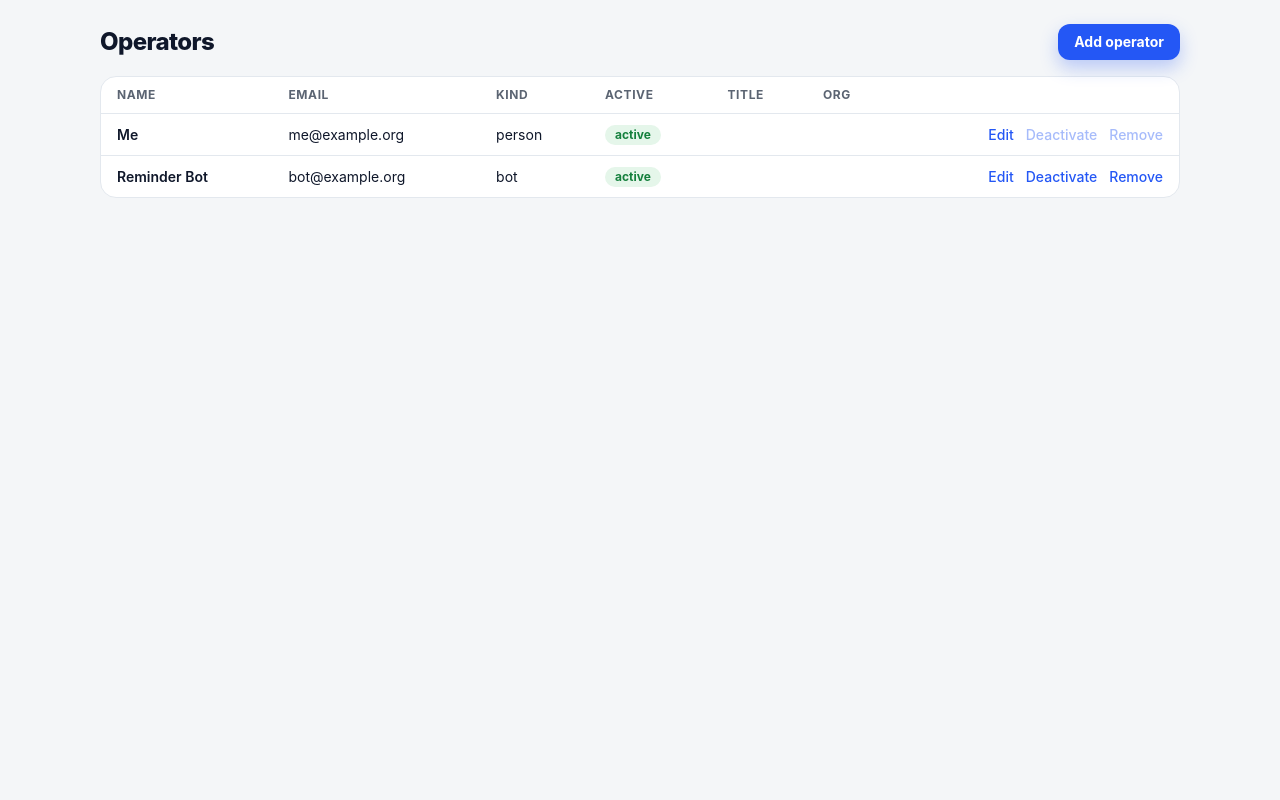
OperatorsScreen › adds an operator and shows the resulting commit subject
This screenshot has width=1280, height=800.
Expected: the text "Reminder Bot" is shown, x1=101 y1=156 x2=272 y2=197
Click the button "Add operator".
click(1119, 42)  # box x1=1058 y1=24 x2=1180 y2=60
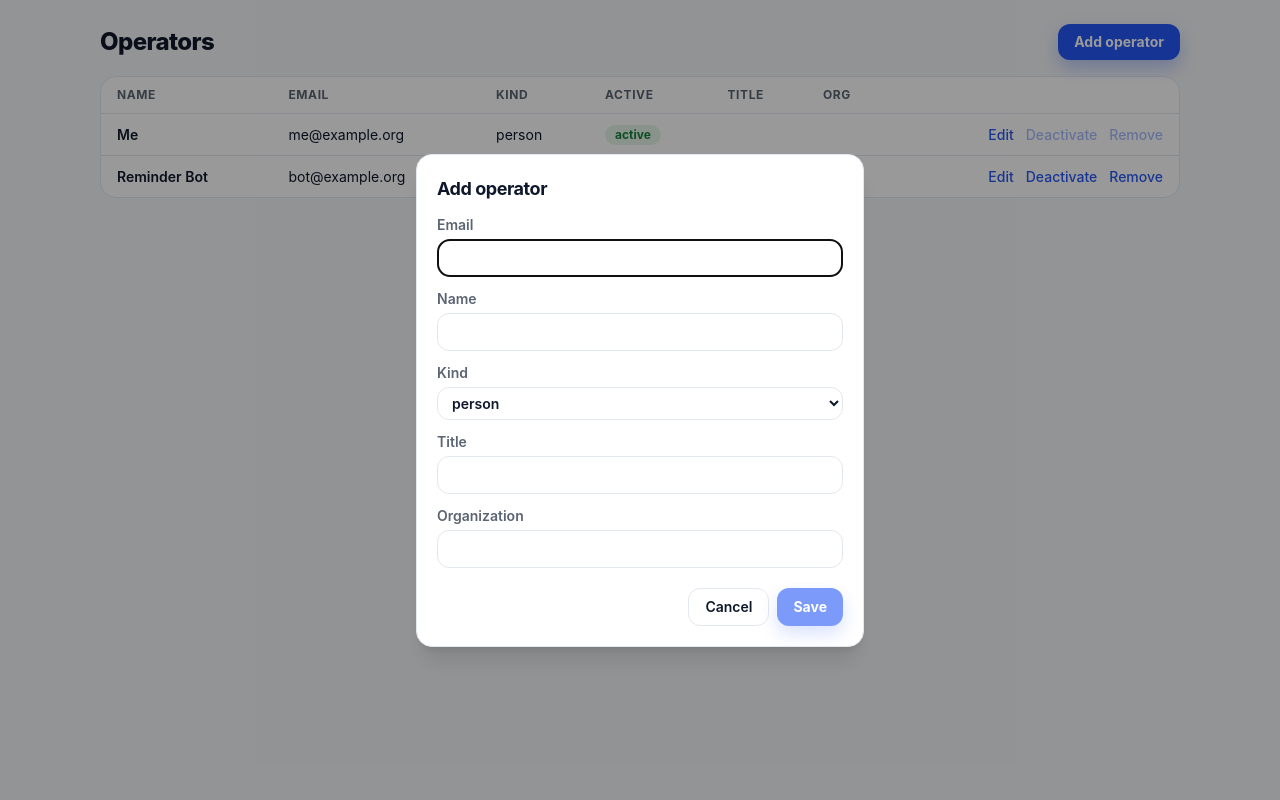
Type "new-op@example.org" into the field labelled "Email".
click(640, 258); type("new-op@example.org")  # box x1=437 y1=238 x2=843 y2=276
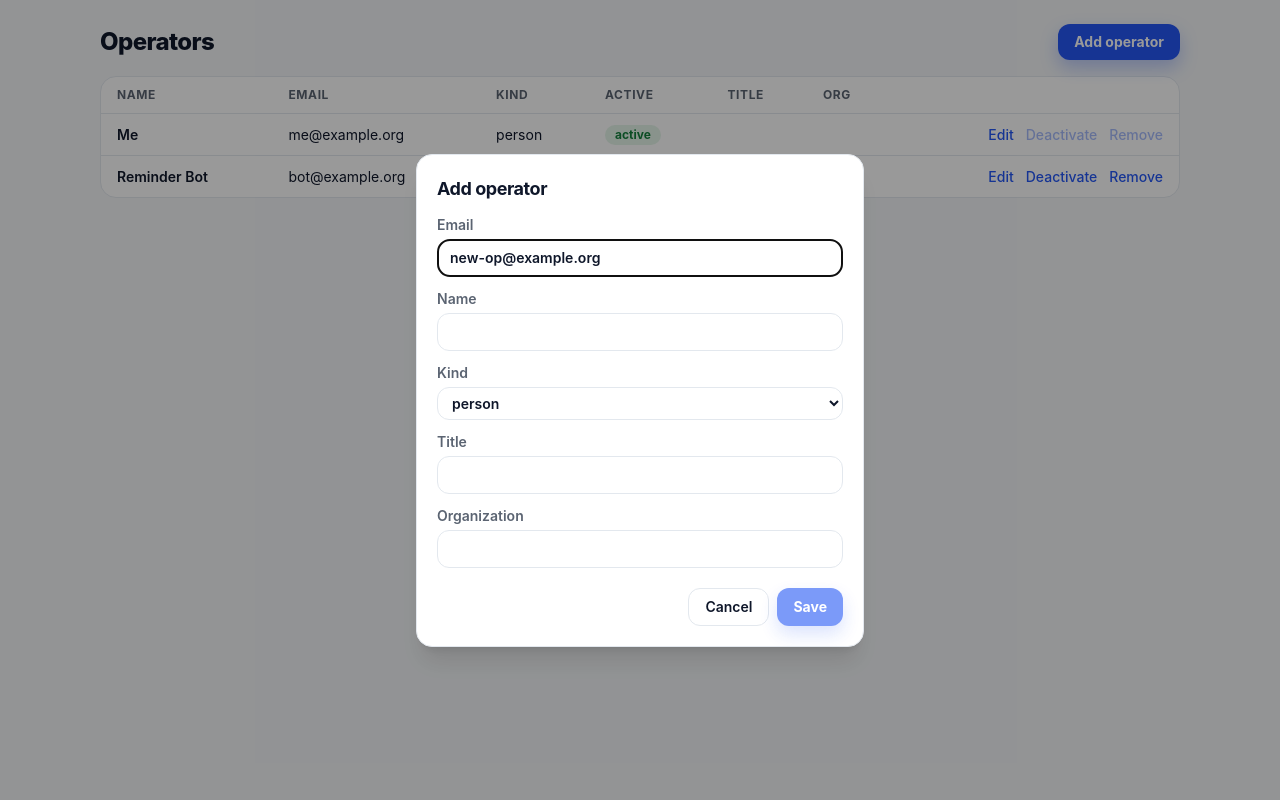
Type "New Op" into the field labelled "Name".
click(640, 332); type("New Op")  # box x1=437 y1=312 x2=843 y2=350
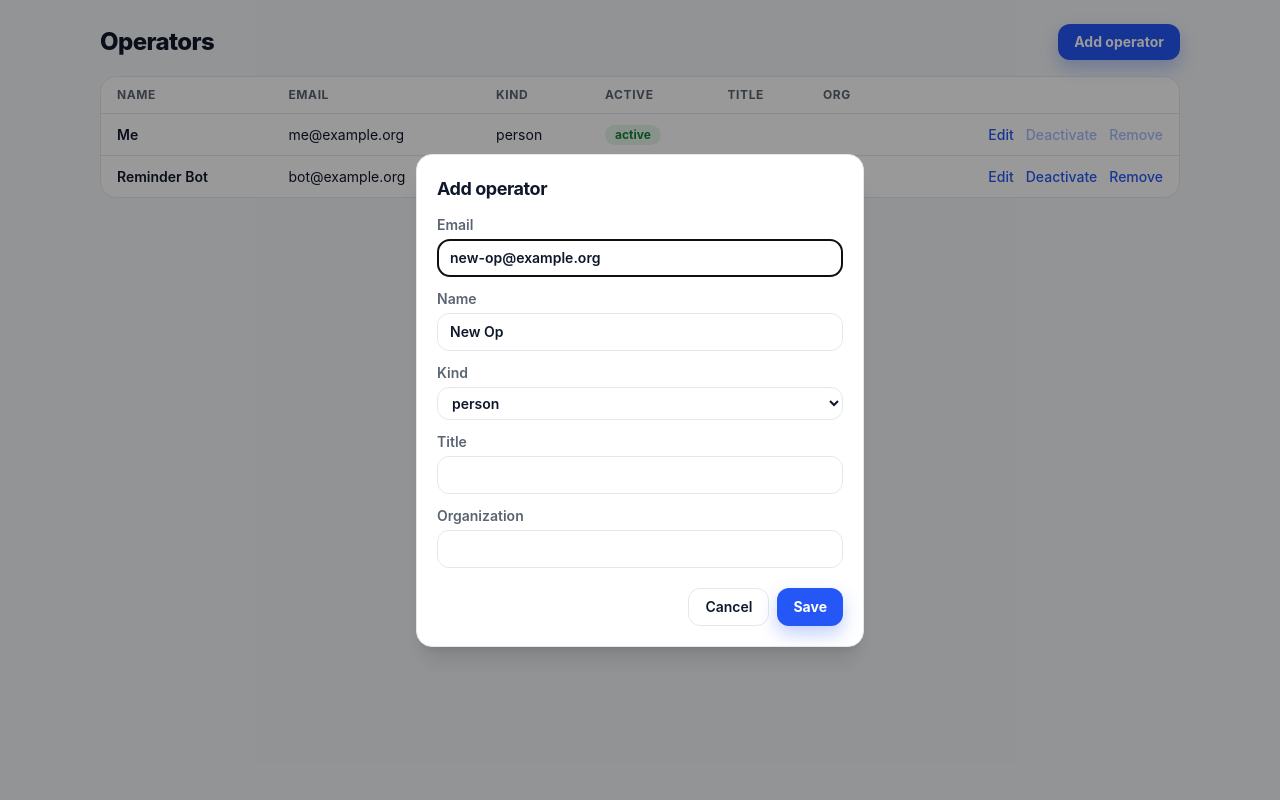
Click the button "Save".
click(810, 606)  # box x1=778 y1=588 x2=843 y2=626
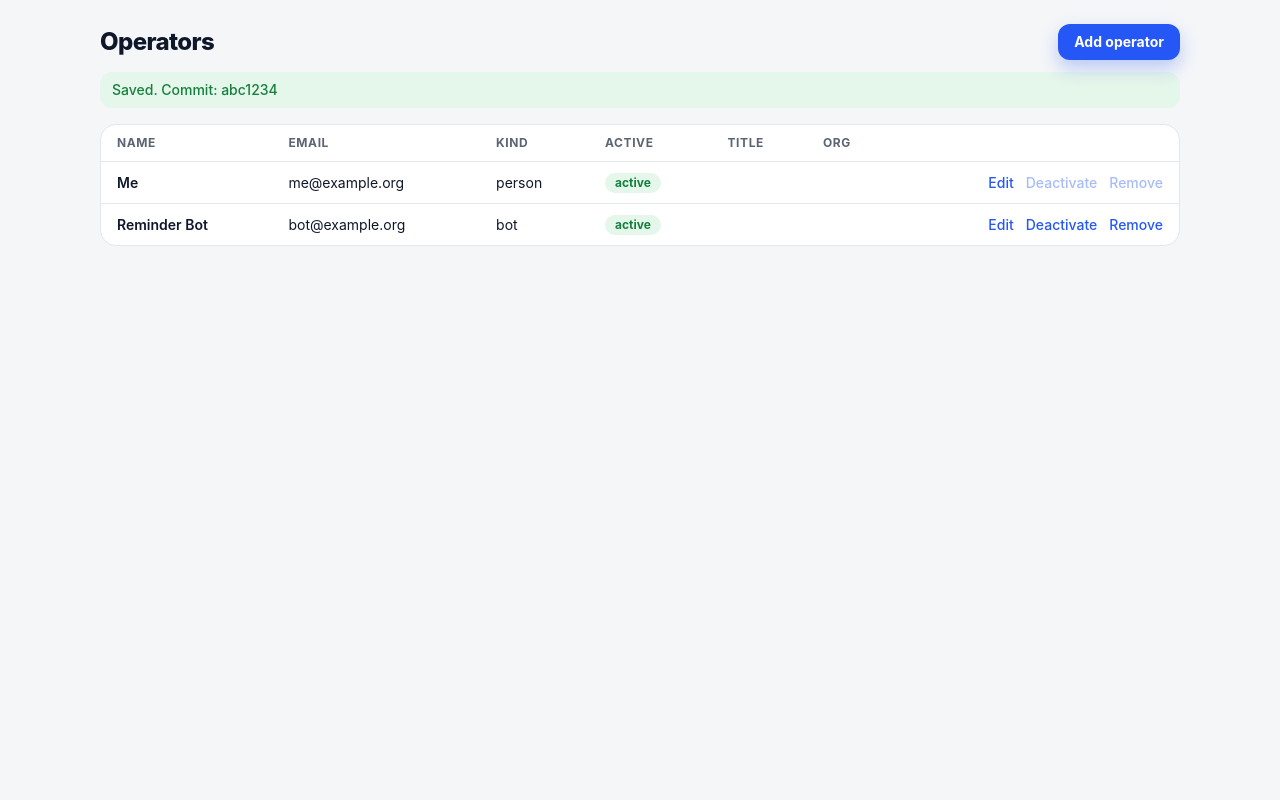
Expected: the message shows "abc1234", x1=112 y1=81 x2=278 y2=98
